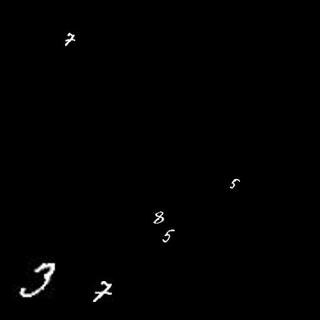eight: (150, 209, 168, 225)
five: (225, 172, 245, 192), (162, 227, 176, 245)
seven: (91, 278, 116, 301), (62, 29, 76, 50)
three: (21, 263, 55, 297)
